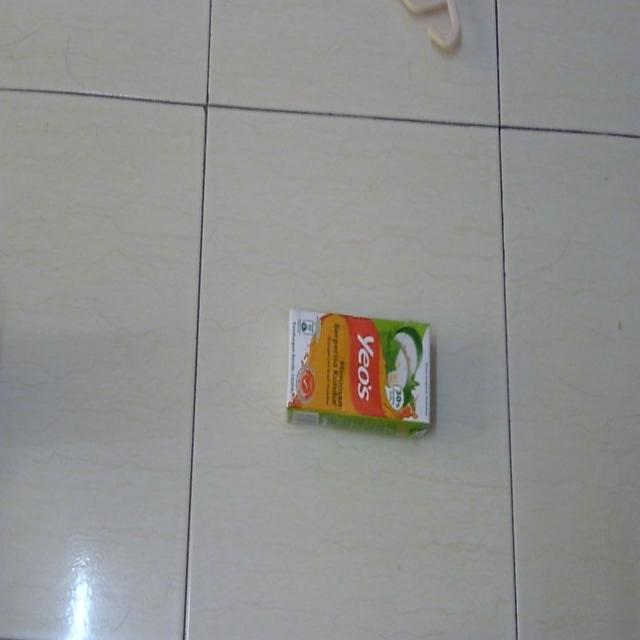plastic_laydown_0rotation: (284, 301, 434, 439)
